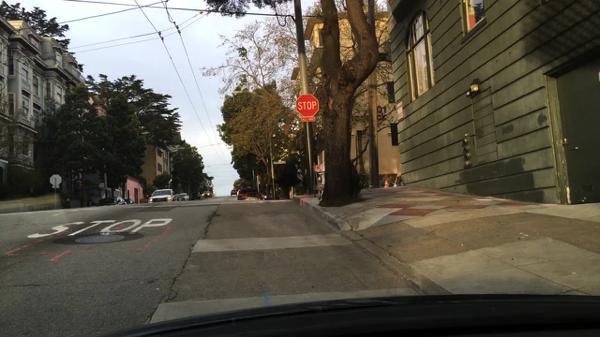car: (94, 196, 128, 207), (238, 185, 257, 198), (376, 180, 400, 188), (245, 193, 265, 201), (191, 190, 201, 201), (177, 193, 192, 200), (202, 190, 213, 198), (125, 198, 135, 206), (229, 189, 236, 196)
person: (65, 197, 71, 207), (88, 198, 93, 207)
traffic sign: (295, 95, 319, 123), (49, 173, 62, 188), (272, 160, 286, 165)
truck: (147, 189, 176, 204)
